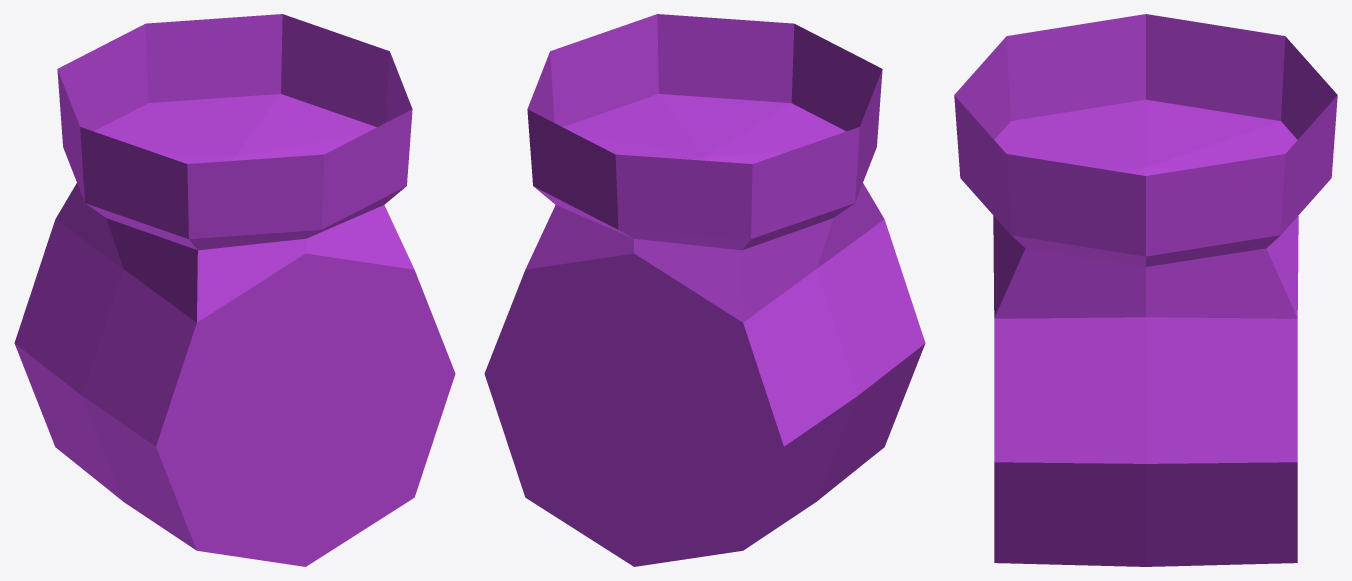
File: JoinPart.glb
The picture shows the model from 3 angles, left to right: view 1: azimuth 30°, elevation 25°; view 2: azimuth 150°, elevation 25°; view 3: azimuth 270°, elevation 25°; orthographic projection. The views are drawn at different scales.
Parts seen in each view (by area): view 1: JoinPart.001; view 2: JoinPart.001; view 3: JoinPart.001.
Part boxes in pixels (left/top/right/bottom): JoinPart.001: left=14, top=14, right=455, bottom=566; JoinPart.001: left=484, top=14, right=925, bottom=566; JoinPart.001: left=954, top=14, right=1337, bottom=566.
Bounding box in the file's own units: 0.6186 × 0.8197 × 0.6186.
